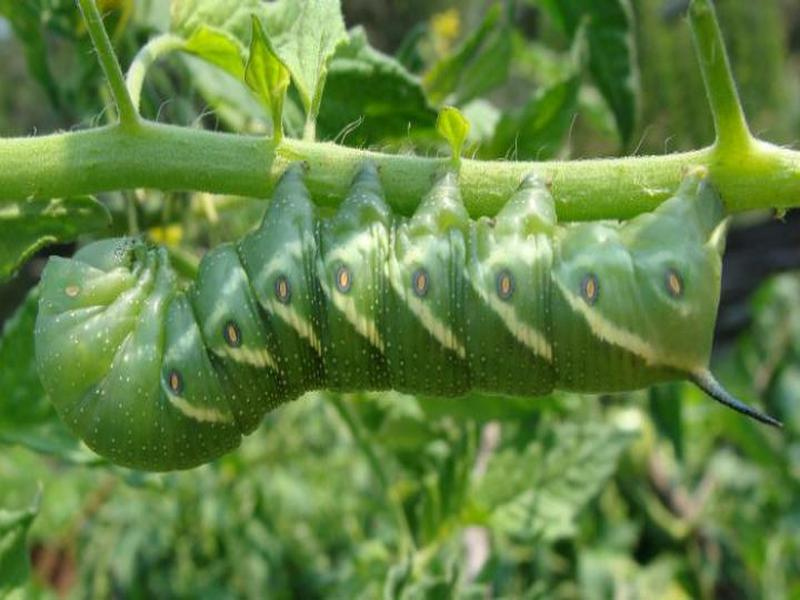Rice_horned_caterpillar: (19, 166, 755, 450)
